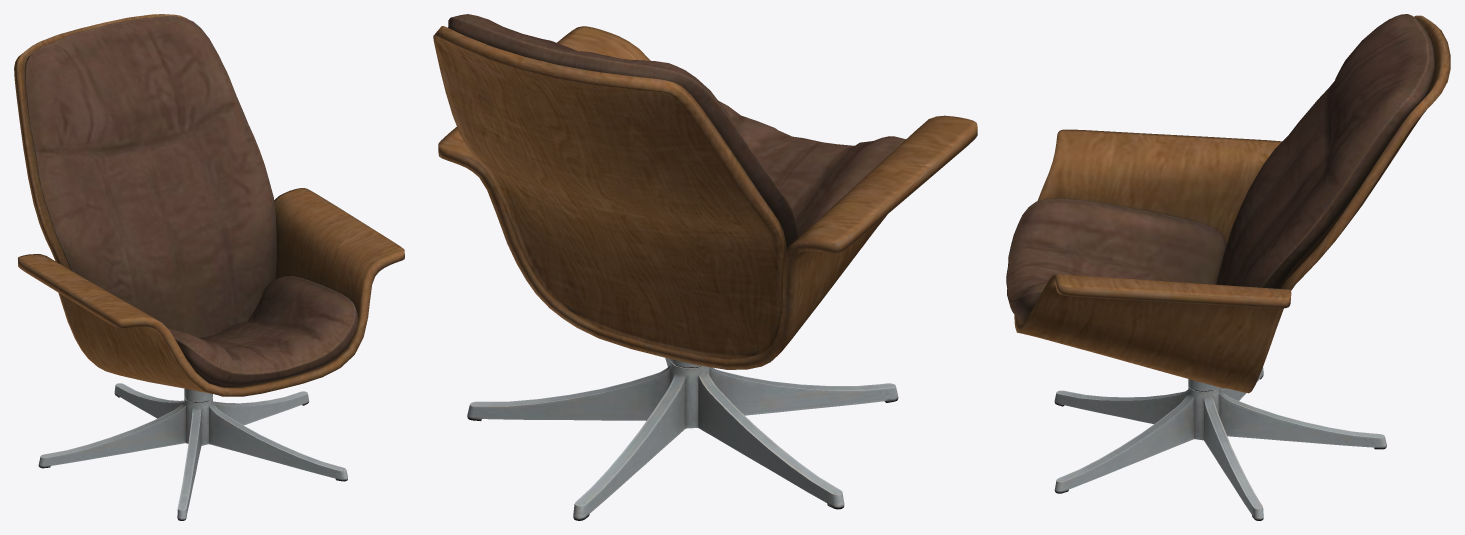
The model's file is mid_century_lounge_chair.glb.
3 views of the same model, side by side, from view 1: azimuth 30°, elevation 25°; view 2: azimuth 150°, elevation 25°; view 3: azimuth 270°, elevation 25° (orthographic). The views are drawn at different scales.
Parts seen in each view (by area): view 1: mid_century_lounge_chair; view 2: mid_century_lounge_chair; view 3: mid_century_lounge_chair.
Boxes of the visible parts, x1,y1,x2,y2 form: mid_century_lounge_chair: (14, 14, 404, 520); mid_century_lounge_chair: (433, 14, 977, 520); mid_century_lounge_chair: (1006, 14, 1450, 520).
Bounding box in the file's own units: 1.01 × 1.17 × 1.19.
Materials: 1 (1 with a texture image).
